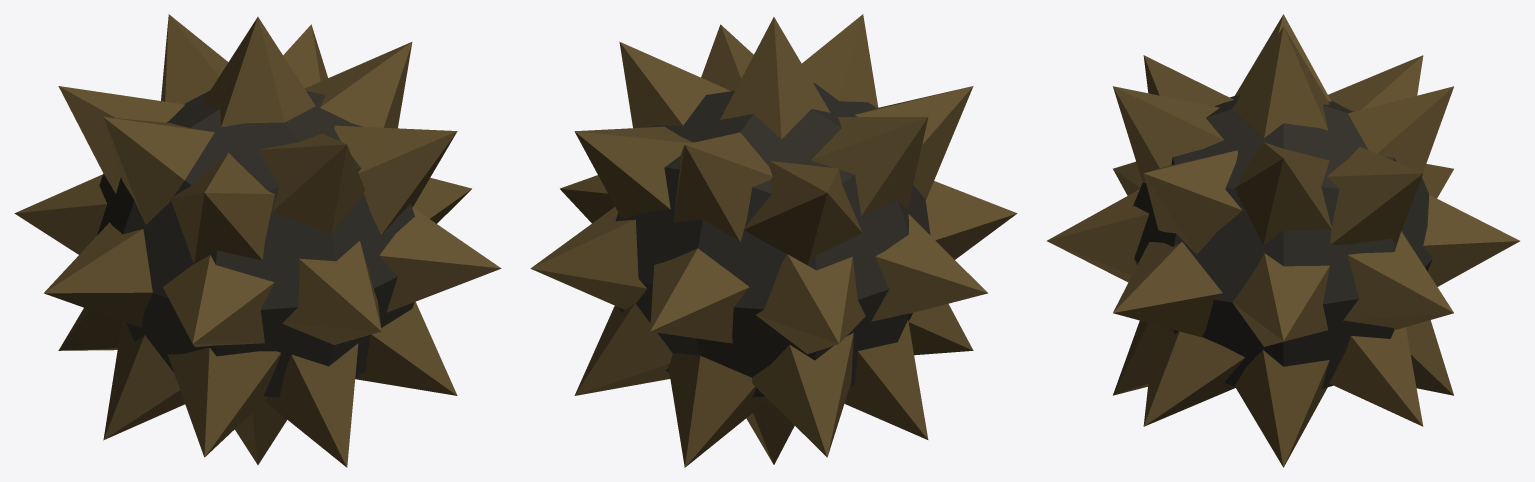
The model's file is spikeball-v1.fbx.
3 renders of one model, left to right at view 1: azimuth 30°, elevation 25°; view 2: azimuth 150°, elevation 25°; view 3: azimuth 270°, elevation 25°, orthographic. The views are drawn at different scales.
Visible parts, largest first — view 1: sphere; view 2: sphere; view 3: sphere.
Boxes of the visible parts, x1,y1,x2,y2 form: sphere: (14, 14, 501, 467); sphere: (530, 14, 1017, 467); sphere: (1047, 14, 1519, 467).
Size of the model in its own units: 3619 by 3619 by 3619.
